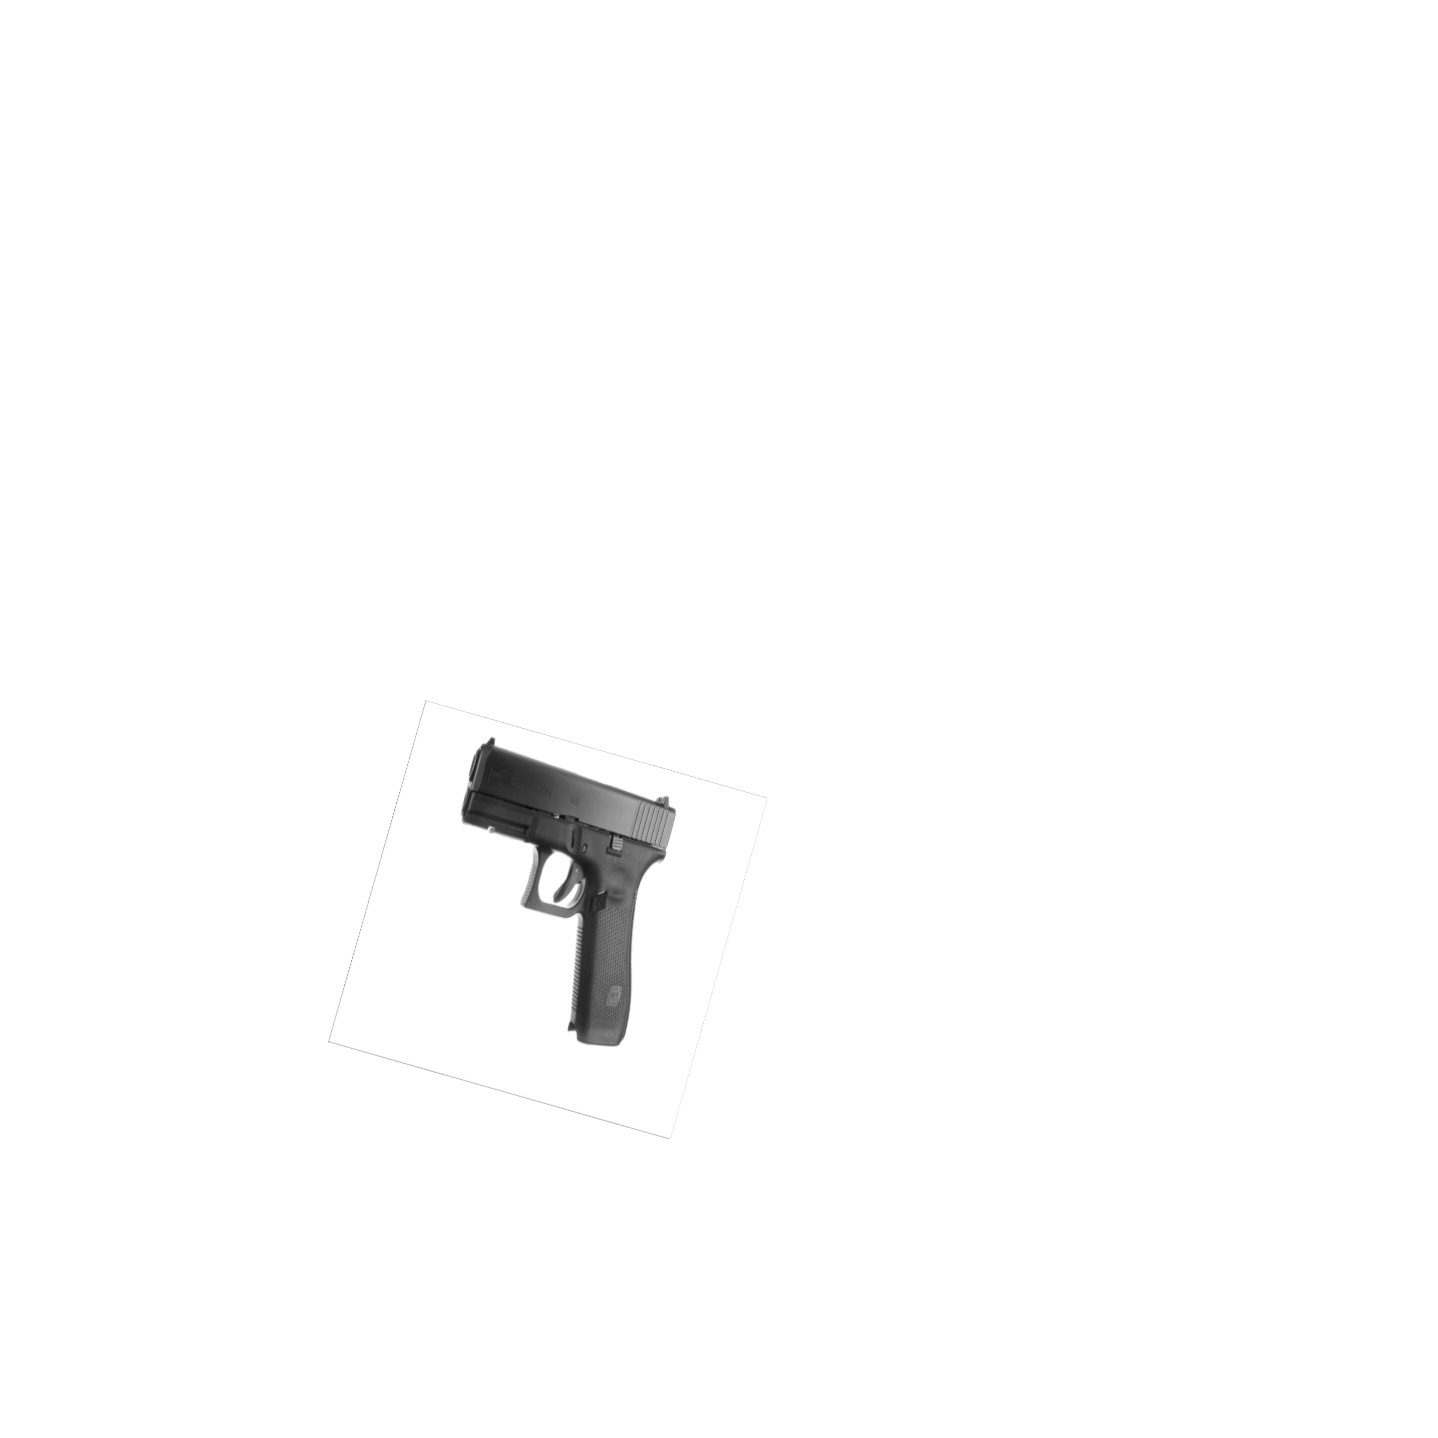gun: (461, 736, 679, 1044)
